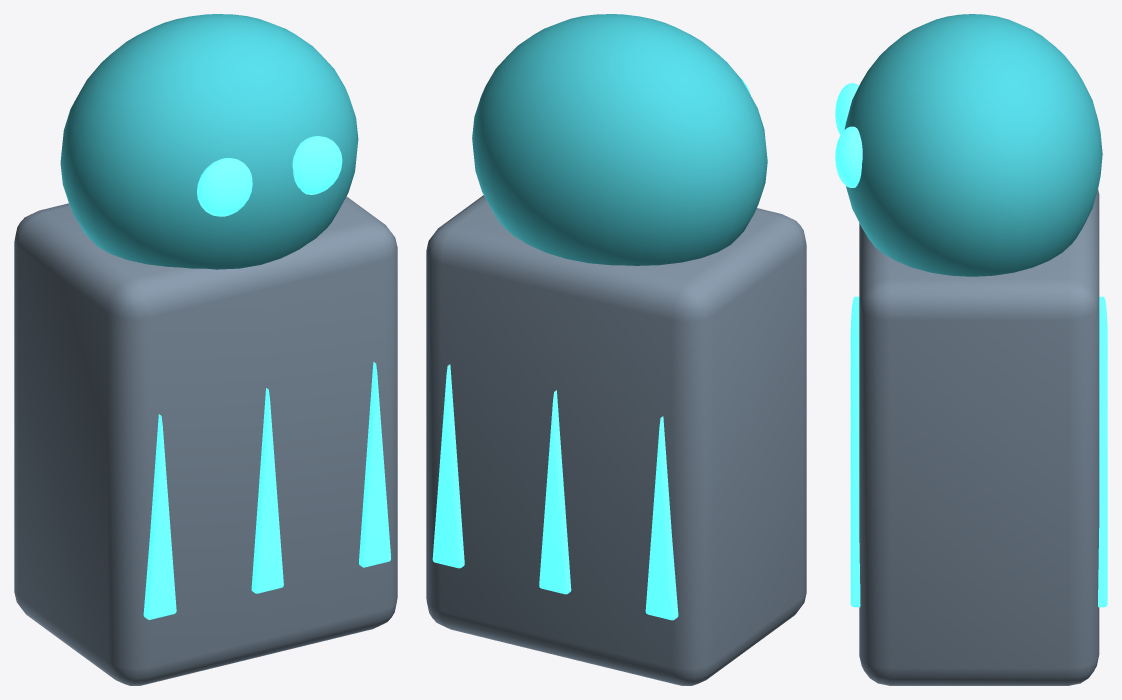
File: trinket_v3.glb
The picture shows the model from 3 angles, left to right: view 1: azimuth 30°, elevation 25°; view 2: azimuth 150°, elevation 25°; view 3: azimuth 270°, elevation 25°; orthographic projection.
Parts seen in each view (by area): view 1: IDOL_BODY_PRIMARY, IDOL_HEAD_ACCENT, IDOL_RUNE_EMISSIVE, IDOL_RUNE_EMISSIVE.001, IDOL_RUNE_EMISSIVE.002, EYE_EMISSIVE, EYE_EMISSIVE.001; view 2: IDOL_BODY_PRIMARY, IDOL_HEAD_ACCENT, IDOL_RUNE_EMISSIVE, IDOL_RUNE_EMISSIVE.002, IDOL_RUNE_EMISSIVE.001; view 3: IDOL_BODY_PRIMARY, IDOL_HEAD_ACCENT, IDOL_RUNE_EMISSIVE.002, EYE_EMISSIVE.001, IDOL_RUNE_EMISSIVE, IDOL_RUNE_EMISSIVE.001, EYE_EMISSIVE.
Boxes of the visible parts, box(x1,y1,x2,y2) form: IDOL_BODY_PRIMARY: box(14, 196, 397, 685); IDOL_HEAD_ACCENT: box(60, 14, 358, 269); IDOL_RUNE_EMISSIVE: box(143, 414, 176, 619); IDOL_RUNE_EMISSIVE.001: box(251, 388, 283, 593); IDOL_RUNE_EMISSIVE.002: box(359, 362, 390, 567); EYE_EMISSIVE: box(197, 158, 252, 216); EYE_EMISSIVE.001: box(292, 136, 342, 194); IDOL_BODY_PRIMARY: box(426, 195, 806, 685); IDOL_HEAD_ACCENT: box(472, 14, 767, 265); IDOL_RUNE_EMISSIVE: box(645, 416, 678, 620); IDOL_RUNE_EMISSIVE.002: box(432, 364, 464, 568); IDOL_RUNE_EMISSIVE.001: box(539, 390, 571, 594); IDOL_BODY_PRIMARY: box(859, 189, 1099, 685); IDOL_HEAD_ACCENT: box(844, 14, 1102, 276); IDOL_RUNE_EMISSIVE.002: box(850, 401, 1107, 607); EYE_EMISSIVE.001: box(835, 126, 862, 187); IDOL_RUNE_EMISSIVE: box(850, 296, 1107, 380); IDOL_RUNE_EMISSIVE.001: box(850, 348, 1107, 432); EYE_EMISSIVE: box(835, 83, 858, 134).
Size of the model in its own units: 0.96 by 1.92 by 0.795.
